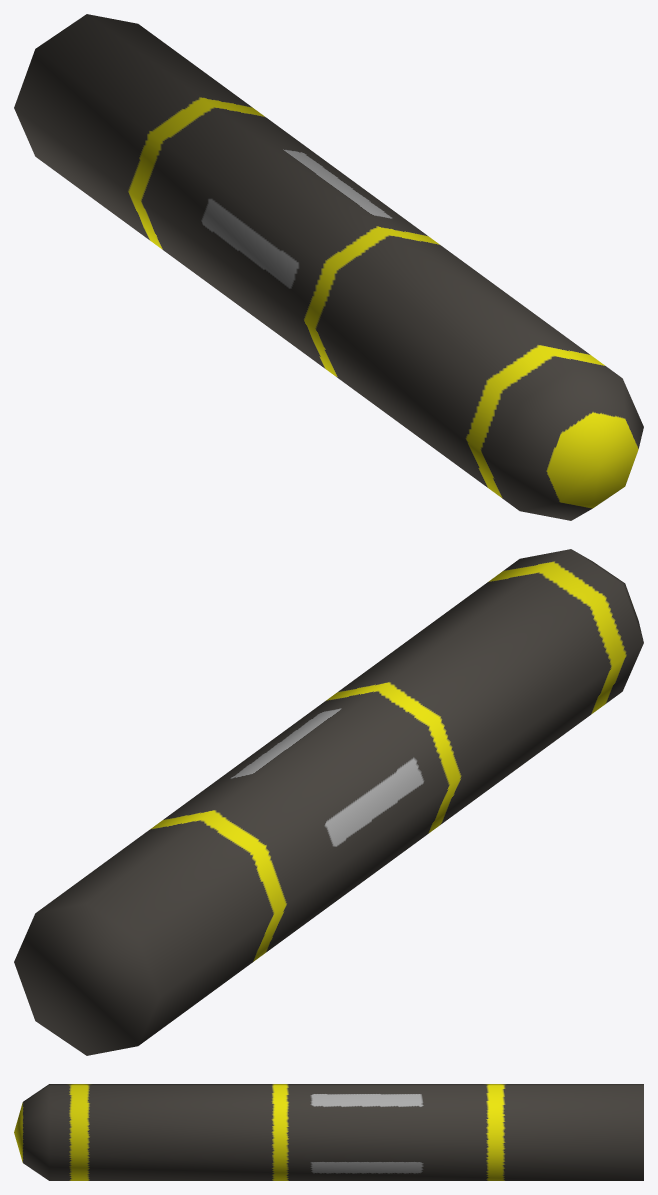
The model's file is rocket.fbx.
The picture shows the model from 3 angles, top to bottom: view 1: azimuth 30°, elevation 25°; view 2: azimuth 150°, elevation 25°; view 3: azimuth 270°, elevation 25°; orthographic projection. The views are drawn at different scales.
Visible parts, largest first — view 1: rocket_LP; view 2: rocket_LP; view 3: rocket_LP.
Boxes of the visible parts, x1,y1,x2,y2 form: rocket_LP: [14, 14, 643, 520]; rocket_LP: [14, 549, 643, 1055]; rocket_LP: [14, 1084, 643, 1180].
Size of the model in its own units: 29.34 by 179 by 29.34.
